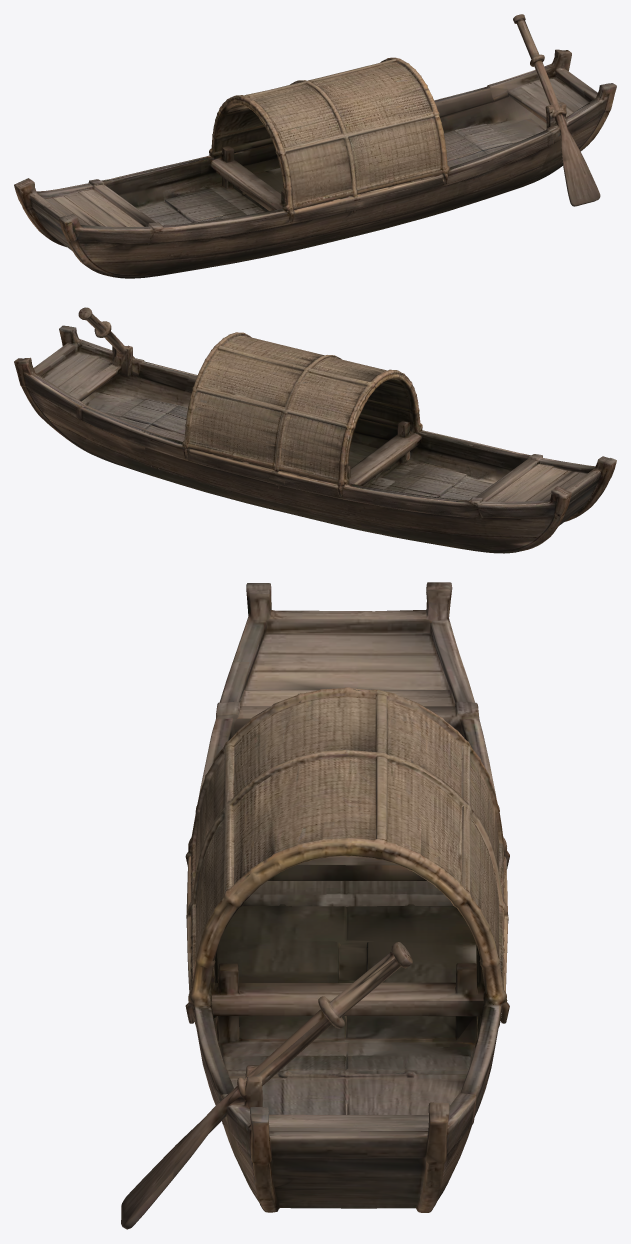
File: boat_web.glb
3 renders of one model, top to bottom at view 1: azimuth 30°, elevation 25°; view 2: azimuth 150°, elevation 25°; view 3: azimuth 270°, elevation 25°, orthographic. The views are drawn at different scales.
Visible parts, largest first — view 1: node_0; view 2: node_0; view 3: node_0.
Boxes of the visible parts, x1,y1,x2,y2 form: node_0: [14, 14, 616, 278]; node_0: [14, 307, 616, 553]; node_0: [121, 582, 509, 1229].
Bounding box in the file's own units: 1.17 × 0.295 × 0.3573.
Materials: 1 (1 with a texture image).
